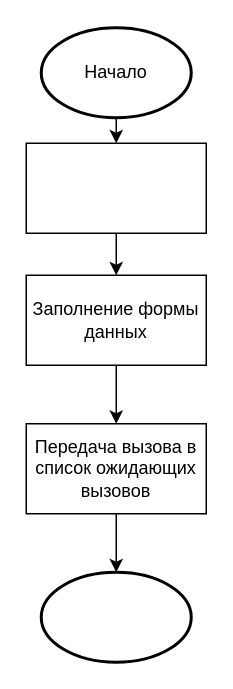
This 233x689 diagram has some shape labels left out. Each missing label, with the centre of its shape:
"Конец" goes at [115,616].
"Поступление звонка на телефон" goes at [115,187].
